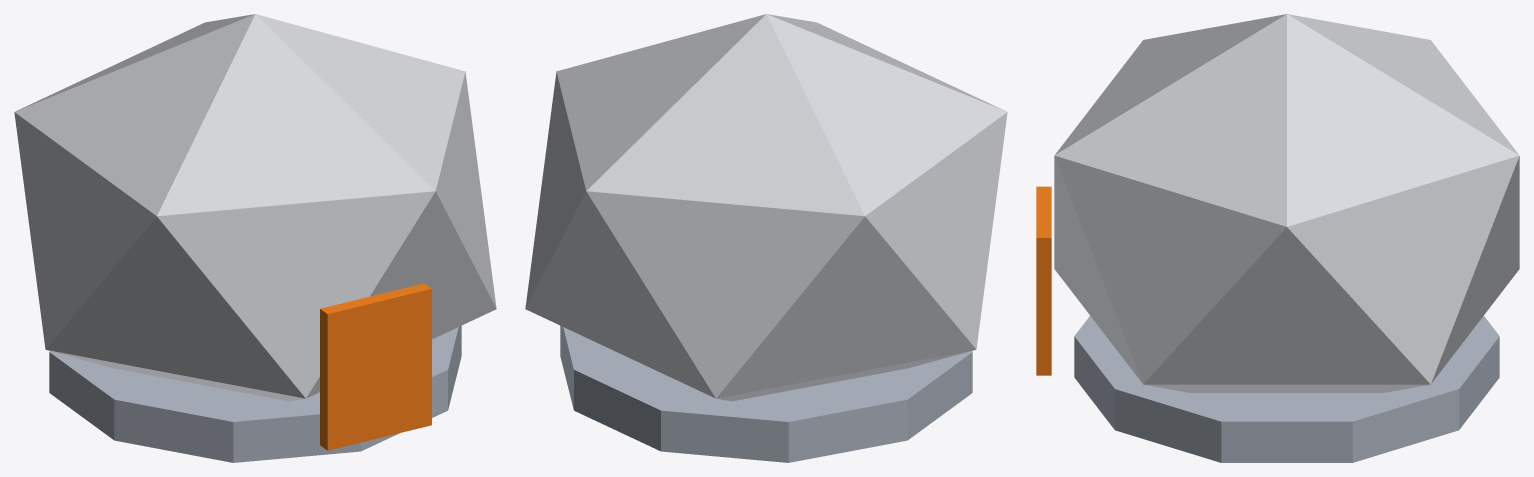
File: lunar-storage-pod.glb
3 renders of one model, left to right at view 1: azimuth 30°, elevation 25°; view 2: azimuth 150°, elevation 25°; view 3: azimuth 270°, elevation 25°, orthographic.
Parts seen in each view (by area): view 1: storage_pod; view 2: storage_pod; view 3: storage_pod.
Boxes of the visible parts, left/top/right/bottom form: storage_pod: left=14, top=14, right=496, bottom=462; storage_pod: left=525, top=14, right=1007, bottom=462; storage_pod: left=1036, top=14, right=1519, bottom=462.
Bounding box in the file's own units: 3.22 × 2.88 × 3.18.
